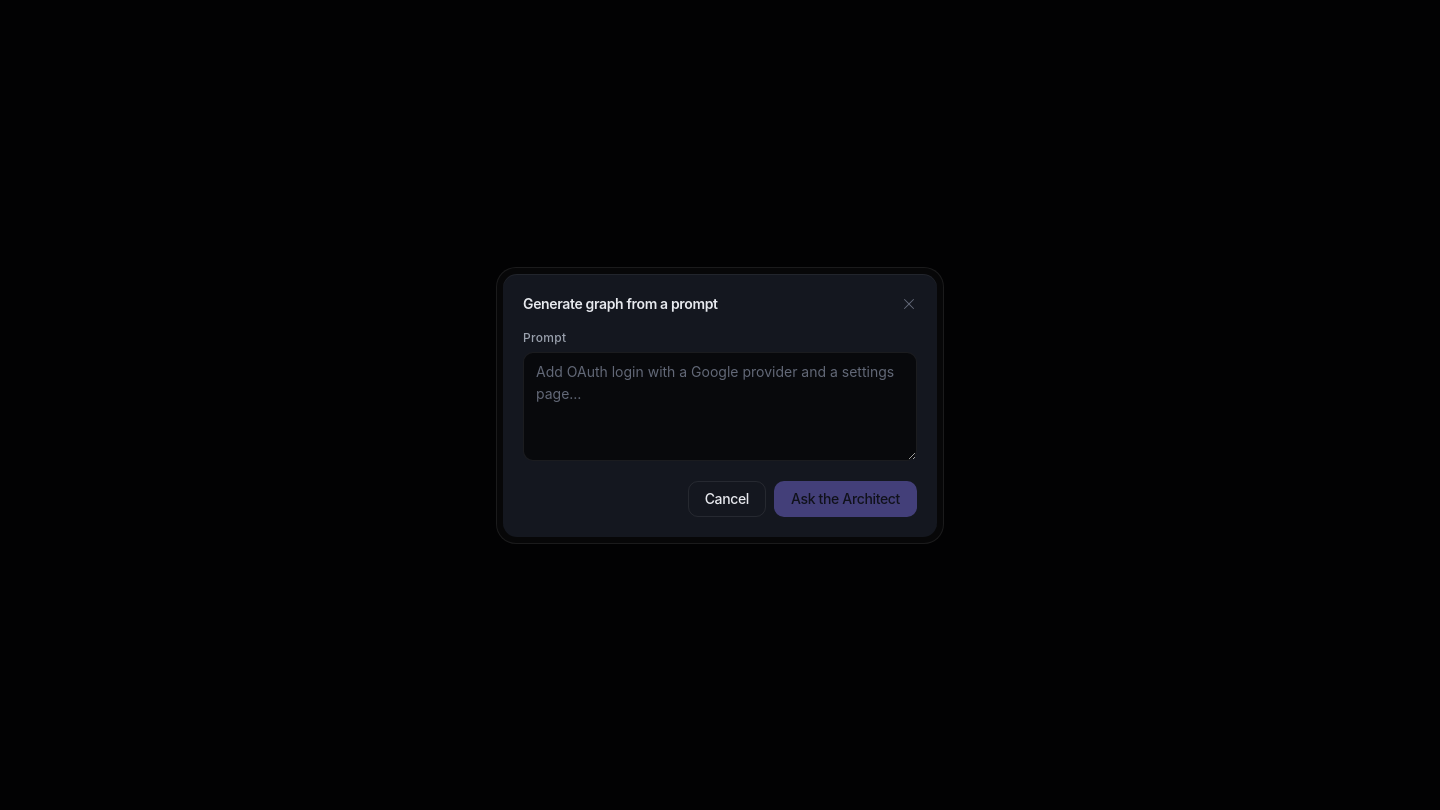
it: PlanPanel (Socratic two-step) › renders an inline error (no fabricated plan) when the request fails
Step 1. Type "x" into the text box with placeholder "Add OAuth login with a Google provider and a settings page…" → (720, 406), box [523,352,917,460]
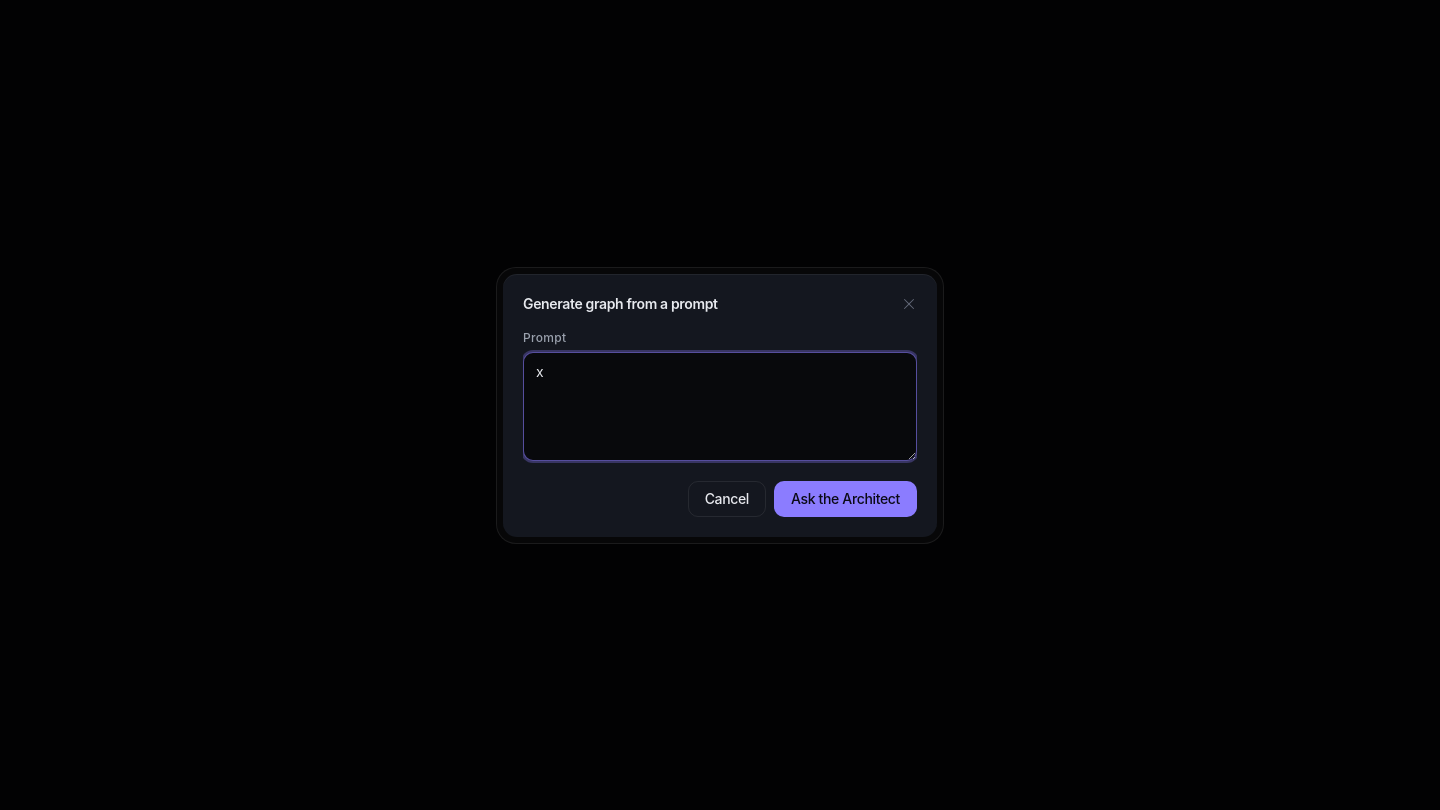
Step 2. Click the button "Ask the Architect" → (846, 498), box [774,480,917,516]
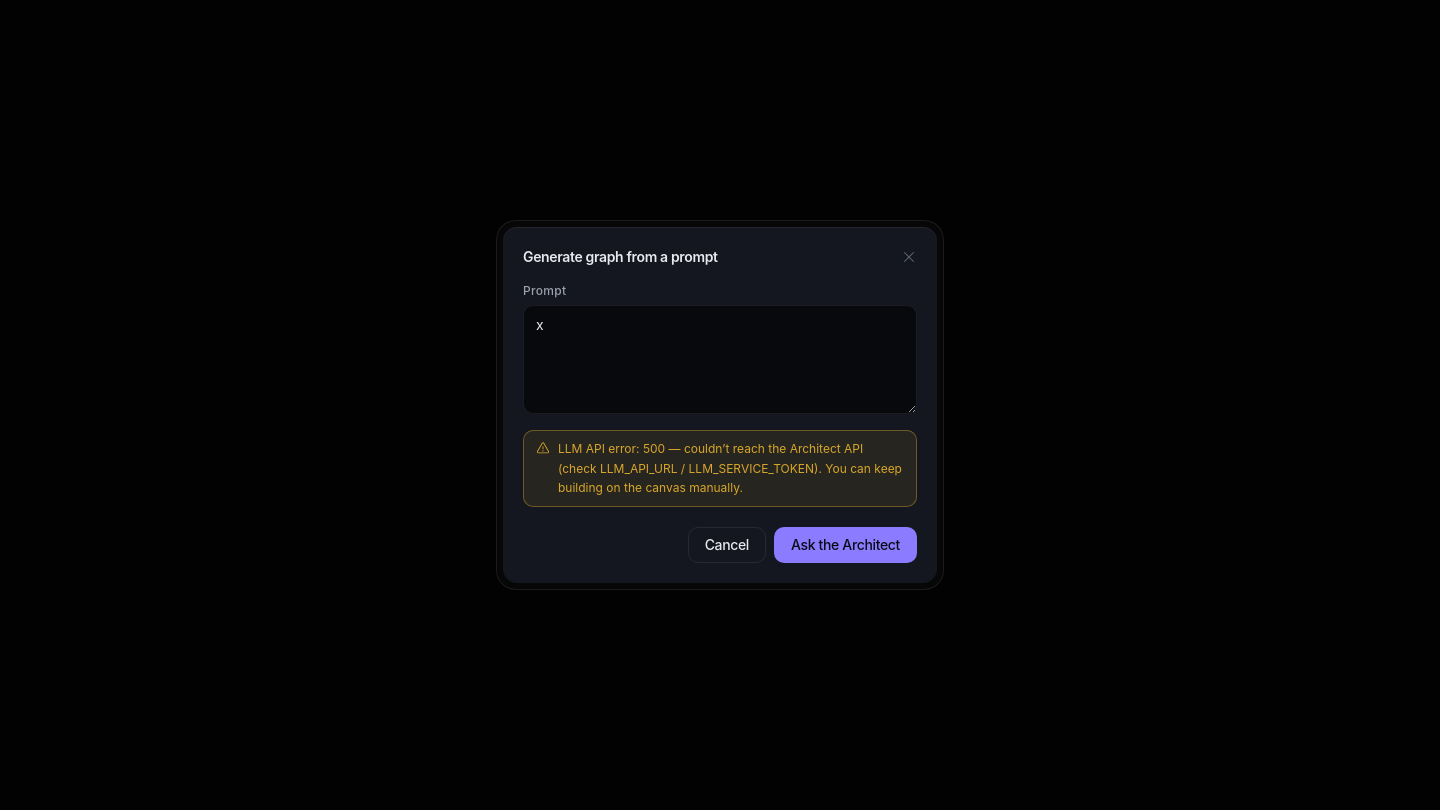
Result: the message shows "Architect API" at [558,441,902,495]
